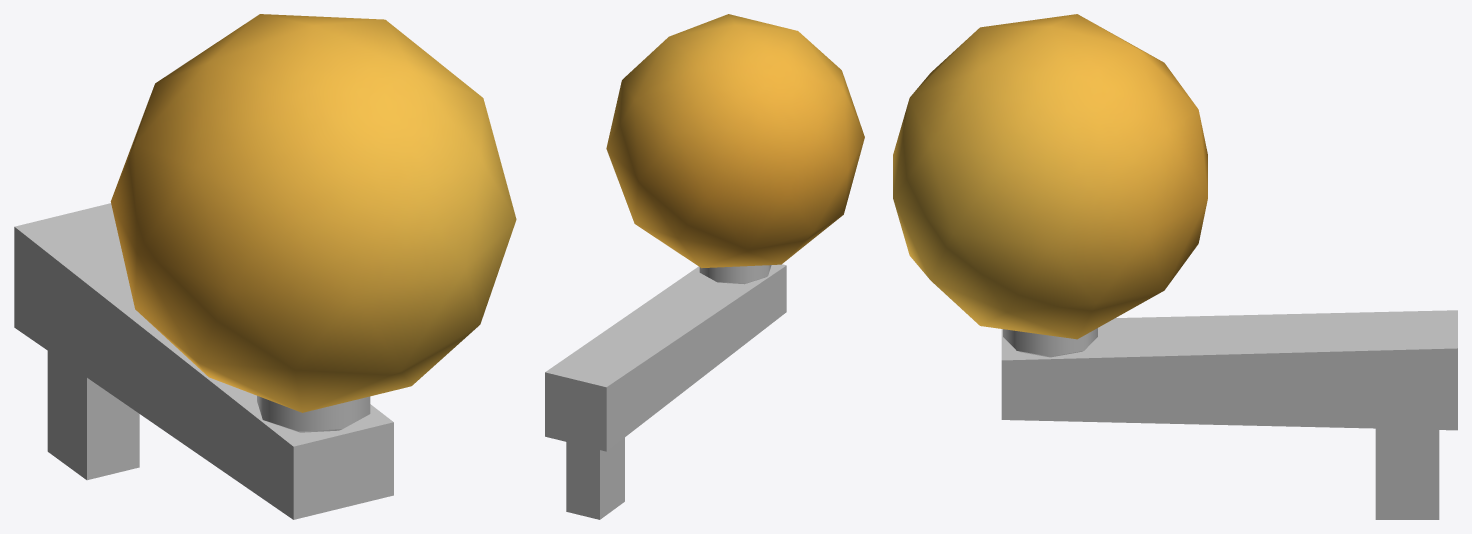
Rendered from lamp02.fbx.
3 renders of one model, left to right at view 1: azimuth 30°, elevation 25°; view 2: azimuth 150°, elevation 25°; view 3: azimuth 270°, elevation 25°, orthographic. The views are drawn at different scales.
Visible parts, largest first — view 1: lamp02; view 2: lamp02; view 3: lamp02.
Part boxes in pixels (bbox=[...]): lamp02: bbox=[14, 14, 516, 519]; lamp02: bbox=[545, 14, 864, 519]; lamp02: bbox=[893, 14, 1457, 519].
Bounding box in the file's own units: 84.12 × 135 × 143.
